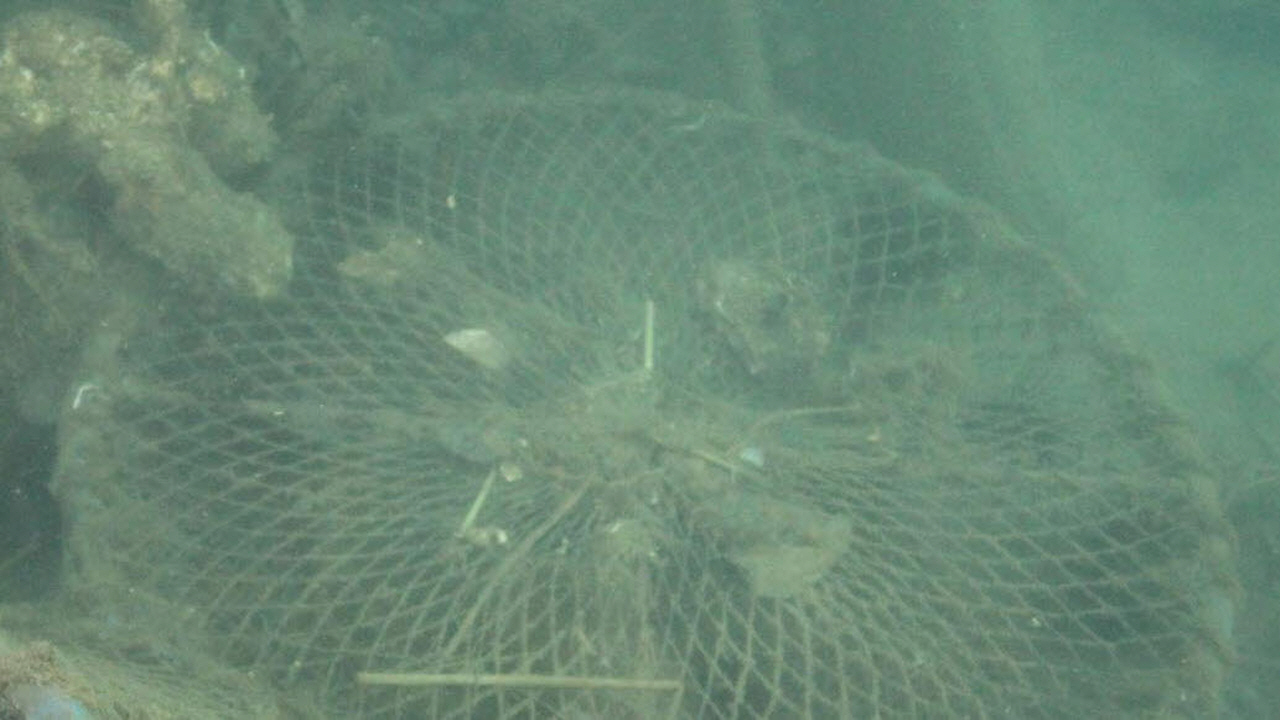circular fish trap: (54, 79, 1237, 720)
